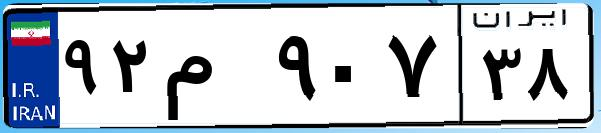0: (330, 28, 385, 110)
2: (110, 28, 158, 98)
3: (475, 38, 525, 113)
7: (385, 28, 445, 110)
8: (525, 38, 570, 115)
9: (270, 28, 330, 110), (57, 26, 110, 100)
م: (158, 20, 270, 120)
